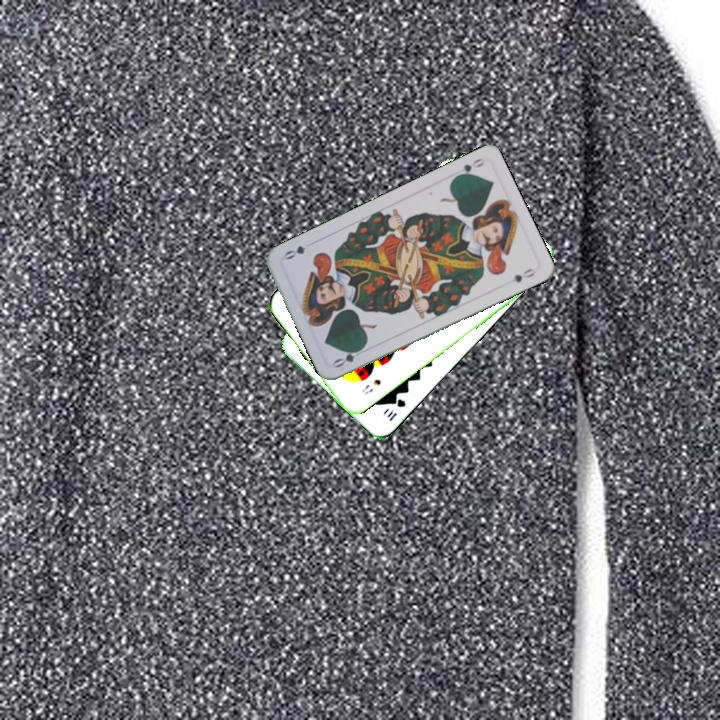G10: (382, 394, 408, 424)
GO: (329, 342, 368, 371), (450, 154, 487, 181)
S8: (357, 375, 384, 397)
